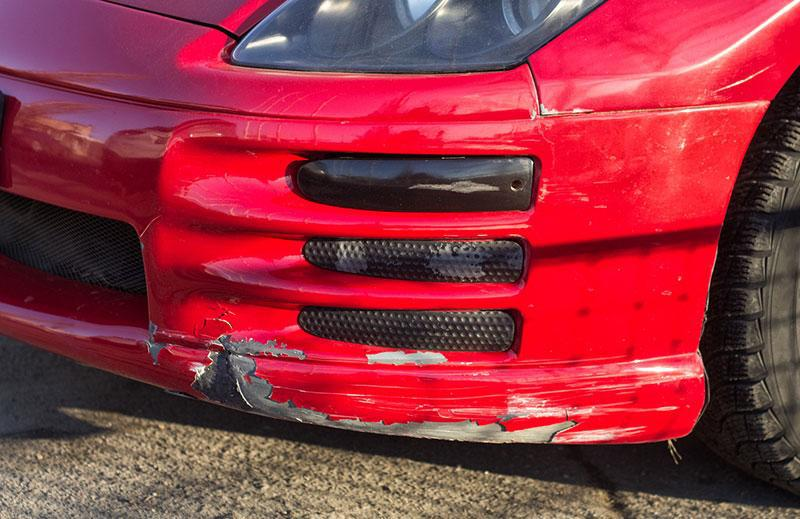front-bumper-dent: (135, 66, 780, 454)
